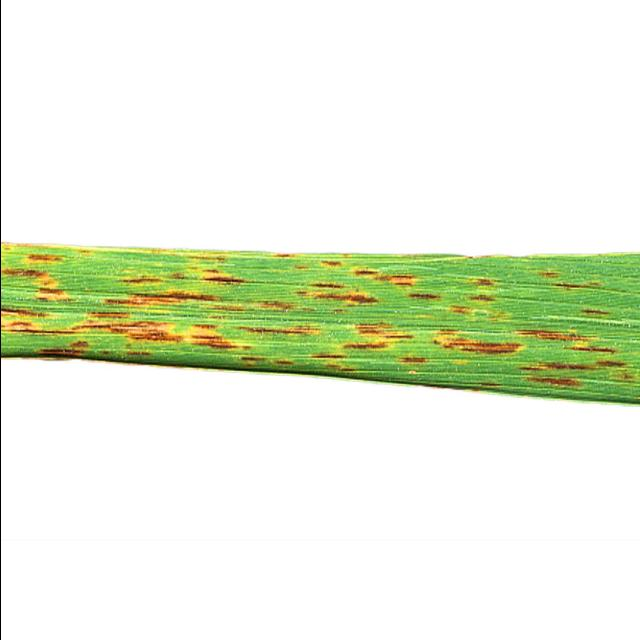Narrow brown: (0, 210, 640, 428)
